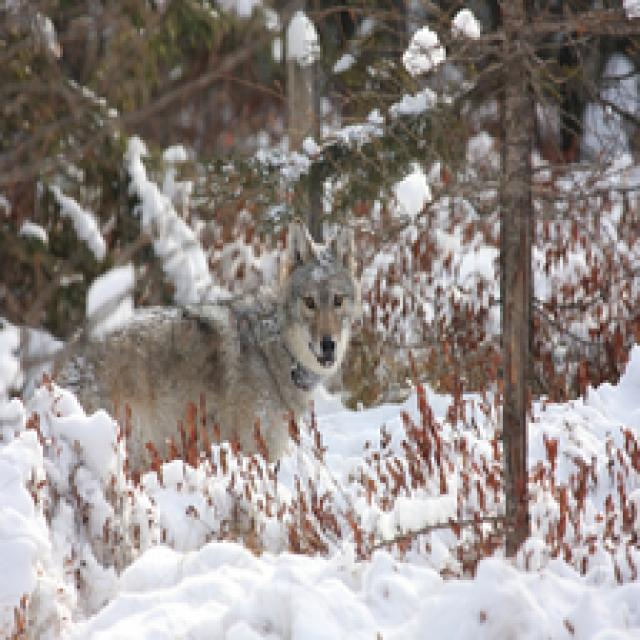wolf: (56, 219, 386, 493)
